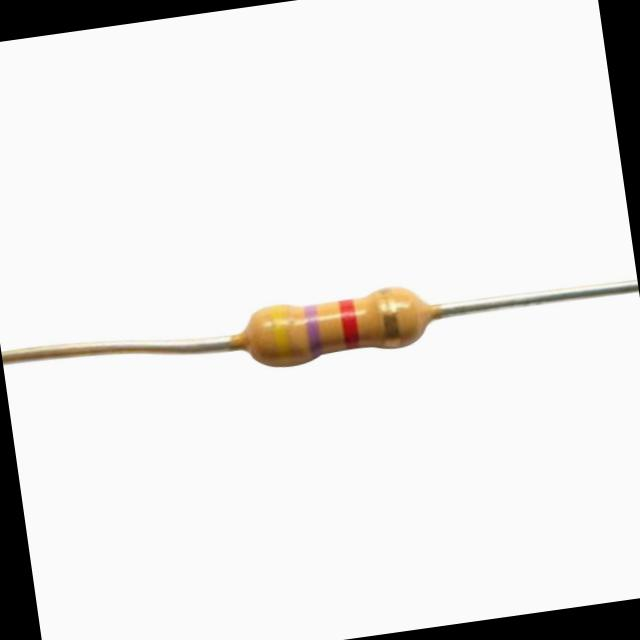Resistor: (244, 287, 432, 366)
gold: (377, 289, 400, 345)
purple: (305, 306, 321, 357)
red: (340, 300, 359, 348)
yellow: (271, 305, 291, 355)
